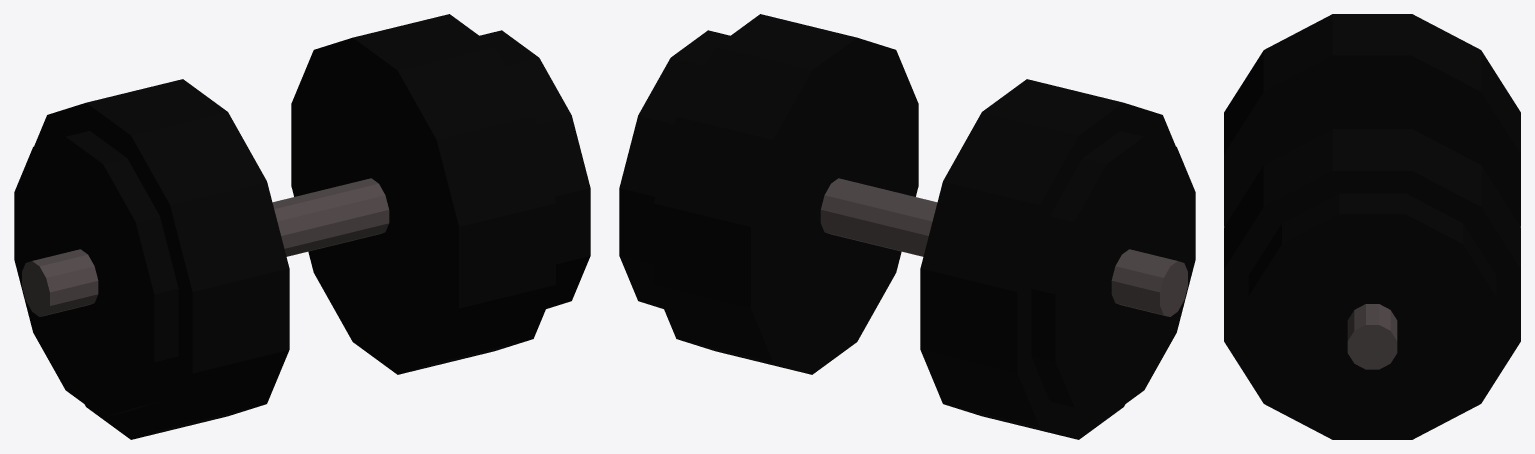
The model's file is dumbbell.glb.
3 renders of one model, left to right at view 1: azimuth 30°, elevation 25°; view 2: azimuth 150°, elevation 25°; view 3: azimuth 270°, elevation 25°, orthographic. The views are drawn at different scales.
Visible parts, largest first — view 1: cylinder_0; view 2: cylinder_0; view 3: cylinder_0.
Boxes of the visible parts, left/top/right/bottom form: cylinder_0: left=14, top=14, right=590, bottom=439; cylinder_0: left=619, top=14, right=1195, bottom=439; cylinder_0: left=1224, top=14, right=1520, bottom=439.
Size of the model in its own units: 1.38 by 0.75 by 0.75.
1 material, 1 textured.
